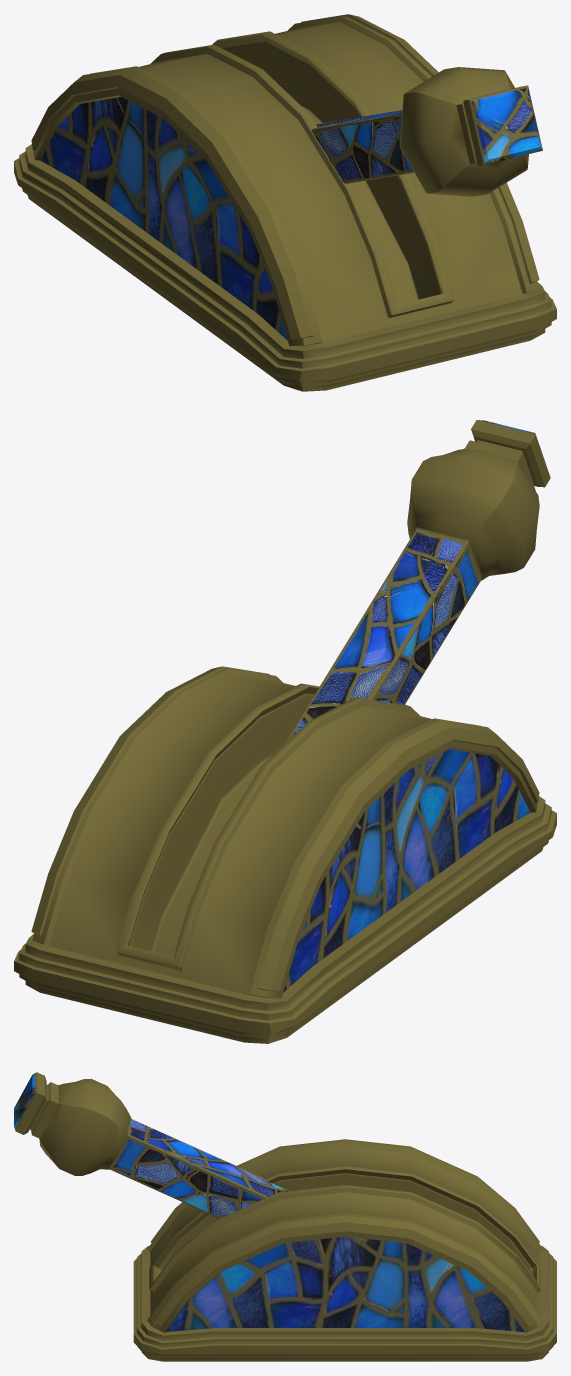
Rendered from leverWholeP2Retouch.glb.
3 views of the same model, one above another, from view 1: azimuth 30°, elevation 25°; view 2: azimuth 150°, elevation 25°; view 3: azimuth 270°, elevation 25° (orthographic). The views are drawn at different scales.
Parts seen in each view (by area): view 1: Mesh_1.003, Mesh_1.001; view 2: Mesh_1.003, Mesh_1.001; view 3: Mesh_1.003, Mesh_1.001.
Boxes of the visible parts, left/top/right/bottom form: Mesh_1.003: left=14, top=14, right=556, bottom=391; Mesh_1.001: left=311, top=67, right=542, bottom=196; Mesh_1.003: left=14, top=666, right=556, bottom=1043; Mesh_1.001: left=285, top=420, right=550, bottom=742; Mesh_1.003: left=133, top=1139, right=556, bottom=1361; Mesh_1.001: left=14, top=1072, right=288, bottom=1218.
Size of the model in its own units: 0.4998 by 0.568 by 1.19.
Materials: 2 (2 with a texture image).
